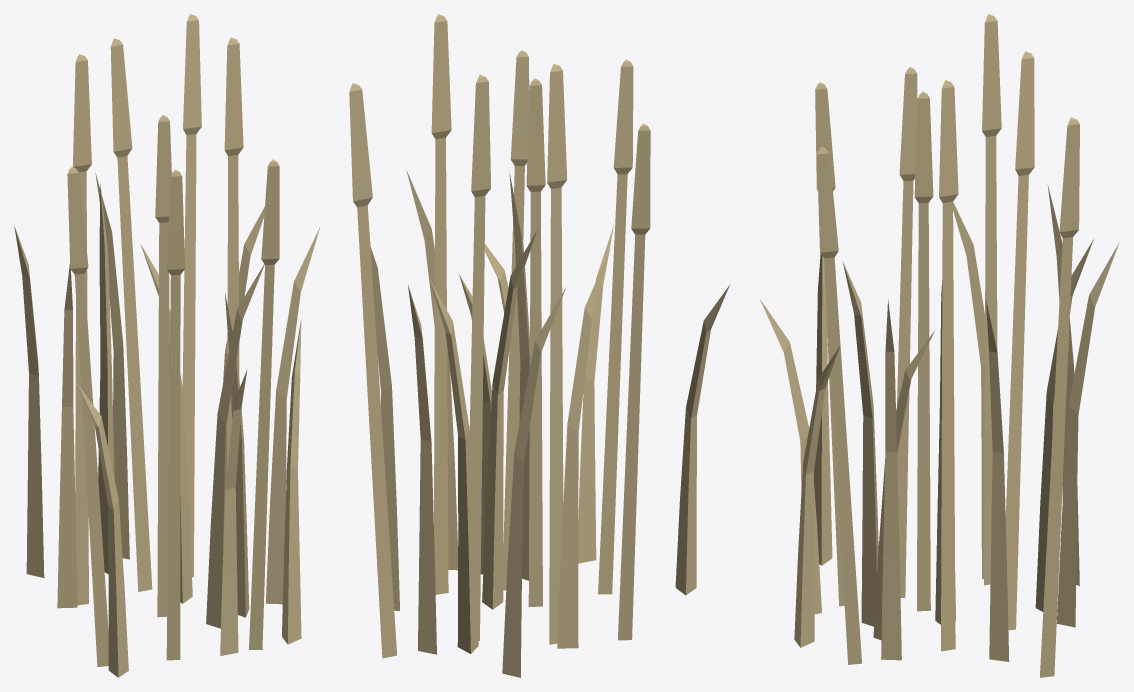
Rendered from Wheat.fbx.
3 views of the same model, side by side, from view 1: azimuth 30°, elevation 25°; view 2: azimuth 150°, elevation 25°; view 3: azimuth 270°, elevation 25° (orthographic). The views are drawn at different scales.
Visible parts, largest first — view 1: Sage; view 2: Sage; view 3: Sage.
Part boxes in pixels (box(x1,y1,x2,y2)): Sage: box(14, 14, 320, 677); Sage: box(349, 14, 729, 677); Sage: box(759, 14, 1119, 677).
Bounding box in the file's own units: 1.01 × 0.9255 × 1.83.
